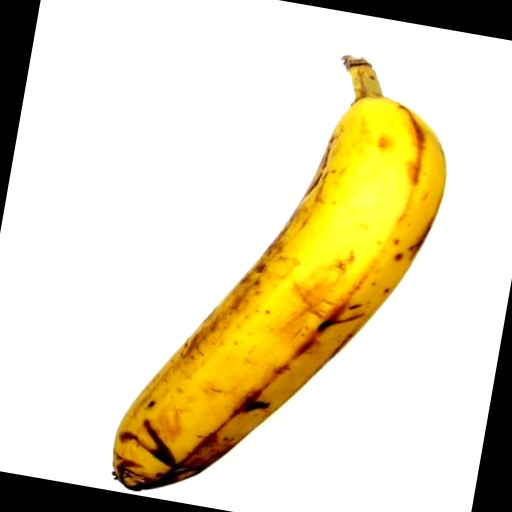fruit: (28, 211, 239, 505)
